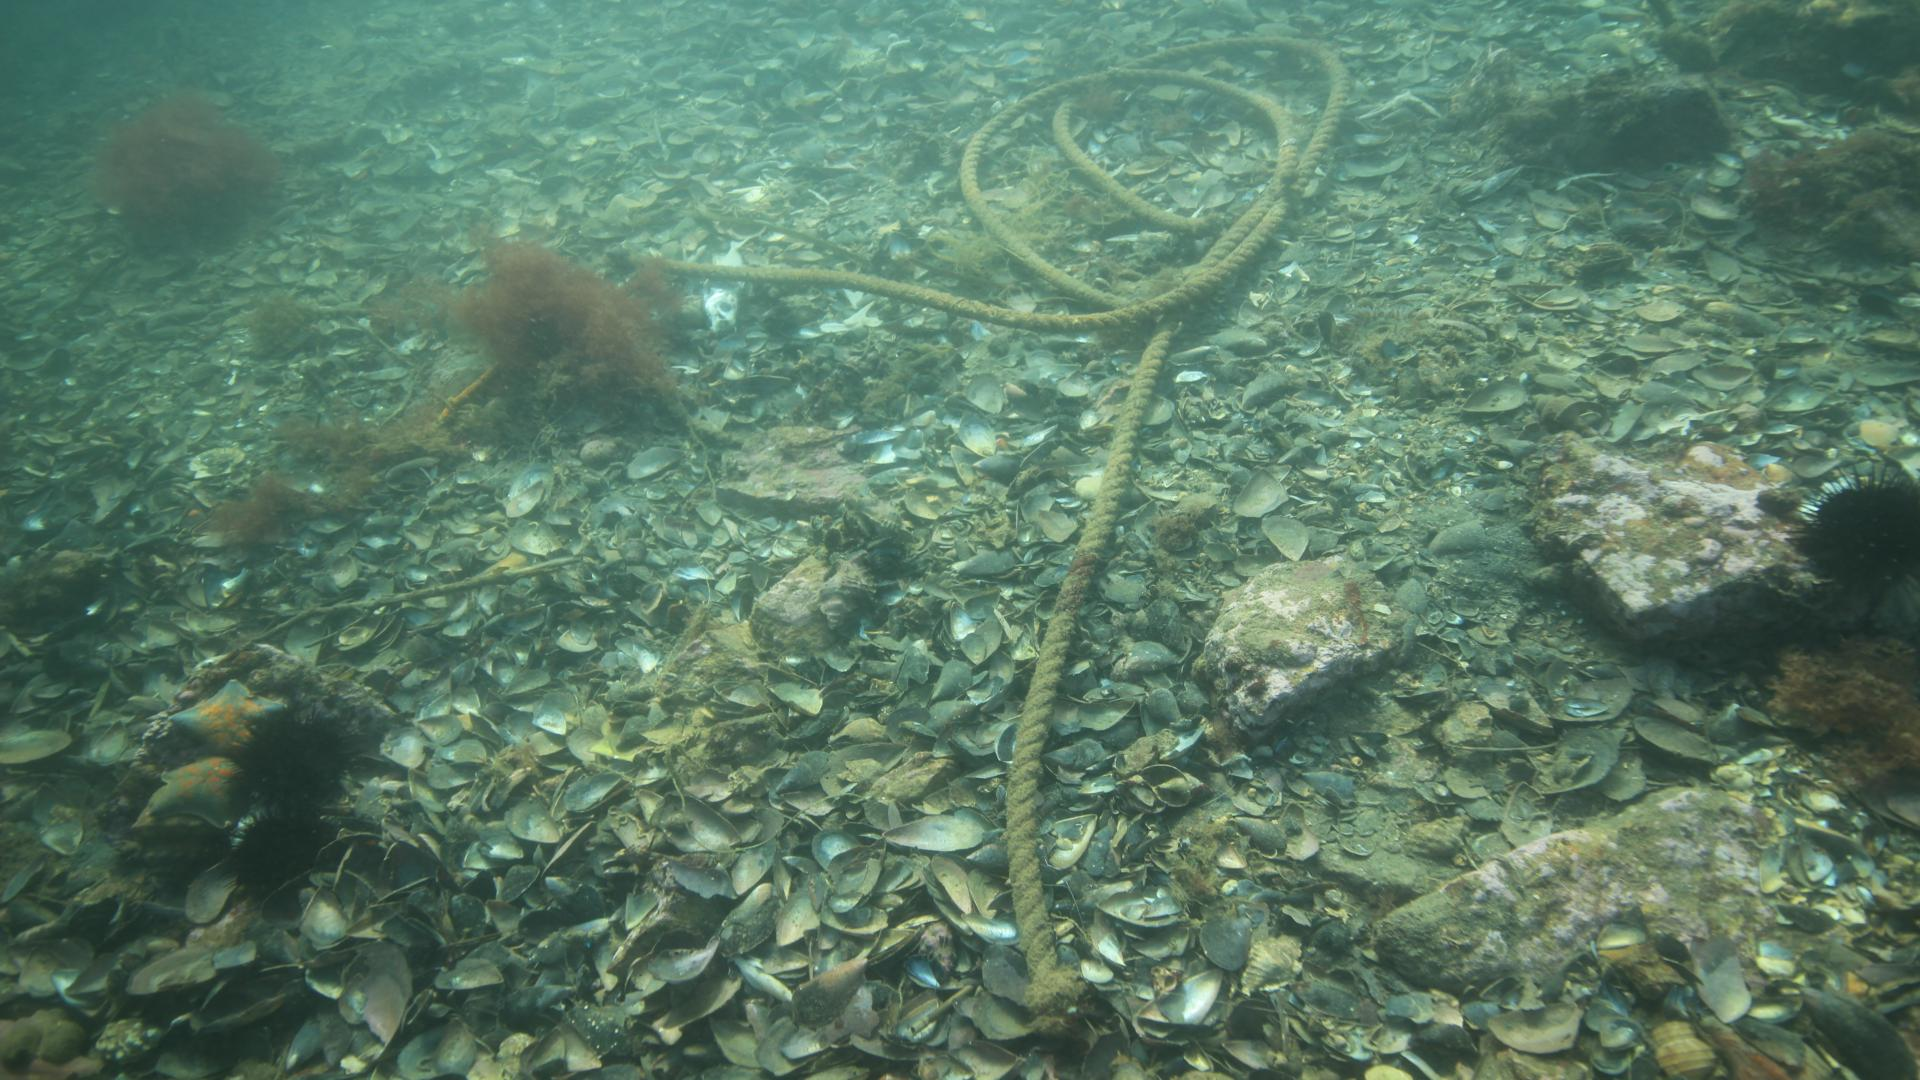bundle of ropes: (634, 29, 1365, 963)
